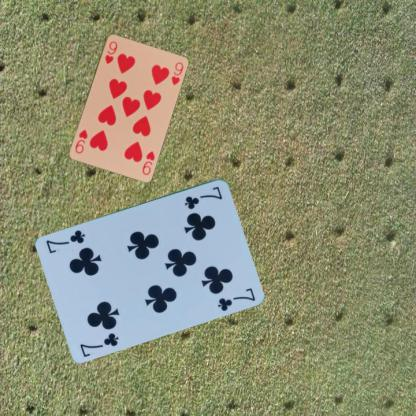7c: (78, 330, 120, 358), (182, 183, 224, 210)
9h: (139, 148, 156, 177), (102, 38, 118, 65)
